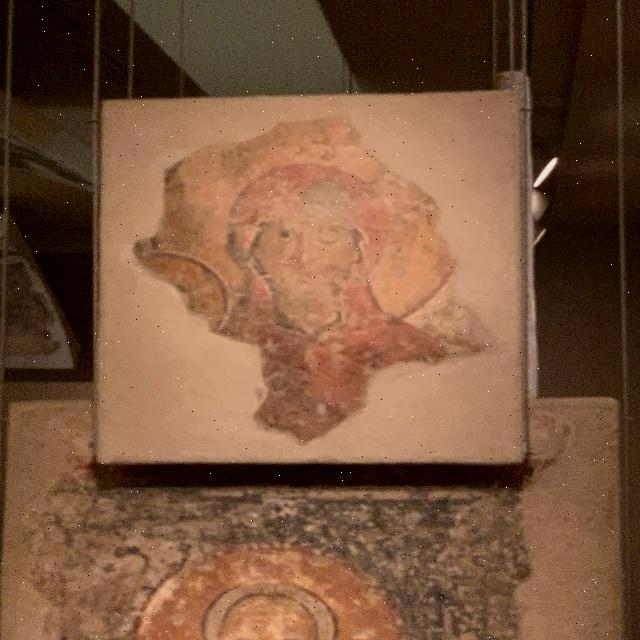aura: (155, 112, 454, 342)
mary: (225, 165, 389, 376)
